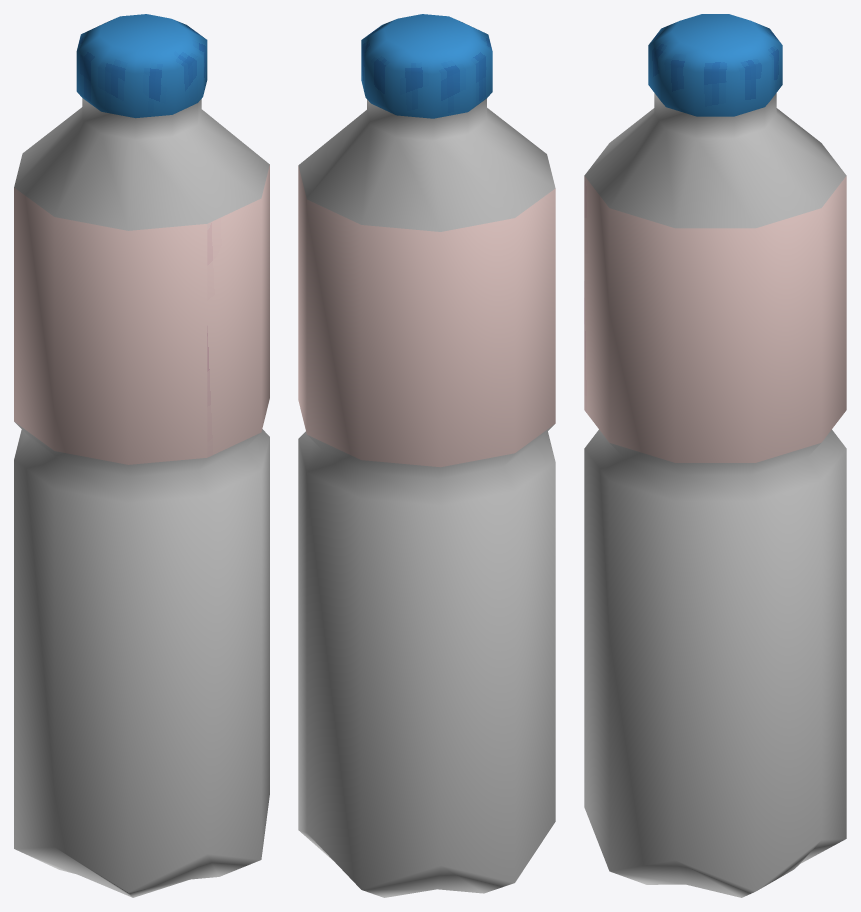
Rendered from Water Bottle.fbx.
3 views of the same model, side by side, from view 1: azimuth 30°, elevation 25°; view 2: azimuth 150°, elevation 25°; view 3: azimuth 270°, elevation 25° (orthographic).
Parts seen in each view (by area): view 1: WaterBottle; view 2: WaterBottle; view 3: WaterBottle.
Boxes of the visible parts, <box> form: WaterBottle: <box>14,14,269,897</box>; WaterBottle: <box>298,14,555,897</box>; WaterBottle: <box>584,14,846,897</box>.
Size of the model in its own units: 128 by 471 by 134.
Materials: 2 (1 with a texture image).
